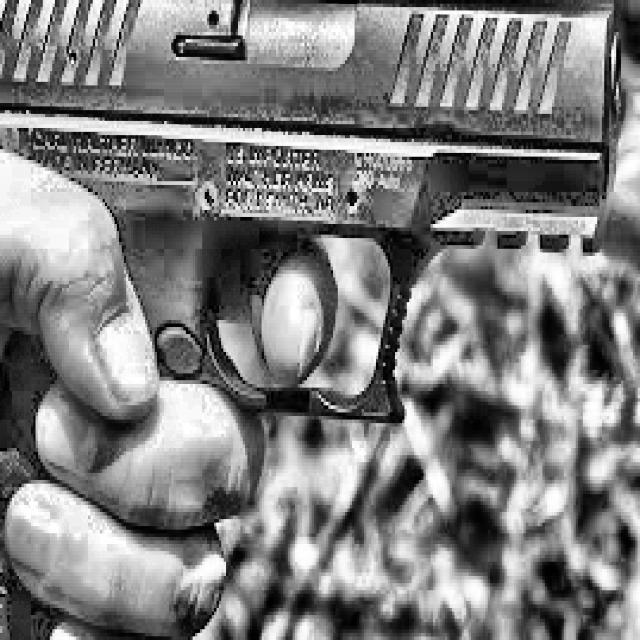Walther: (0, 0, 623, 640)
